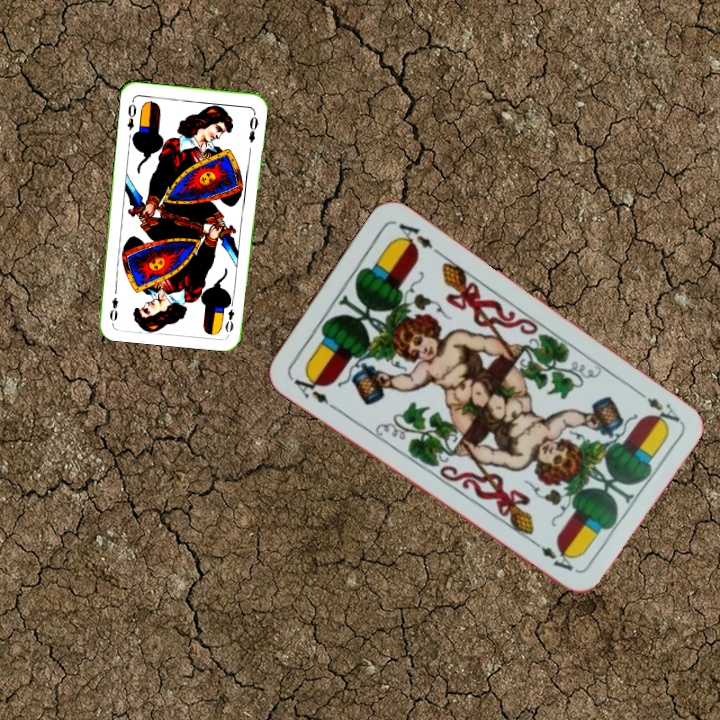EA: (631, 385, 683, 431), (285, 368, 337, 412)
EO: (123, 100, 139, 133), (222, 305, 237, 334)
